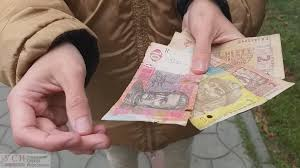bn_1: (194, 75, 275, 128)
bn_10: (102, 44, 189, 120)
bn_2: (228, 64, 300, 109), (228, 47, 300, 68)
